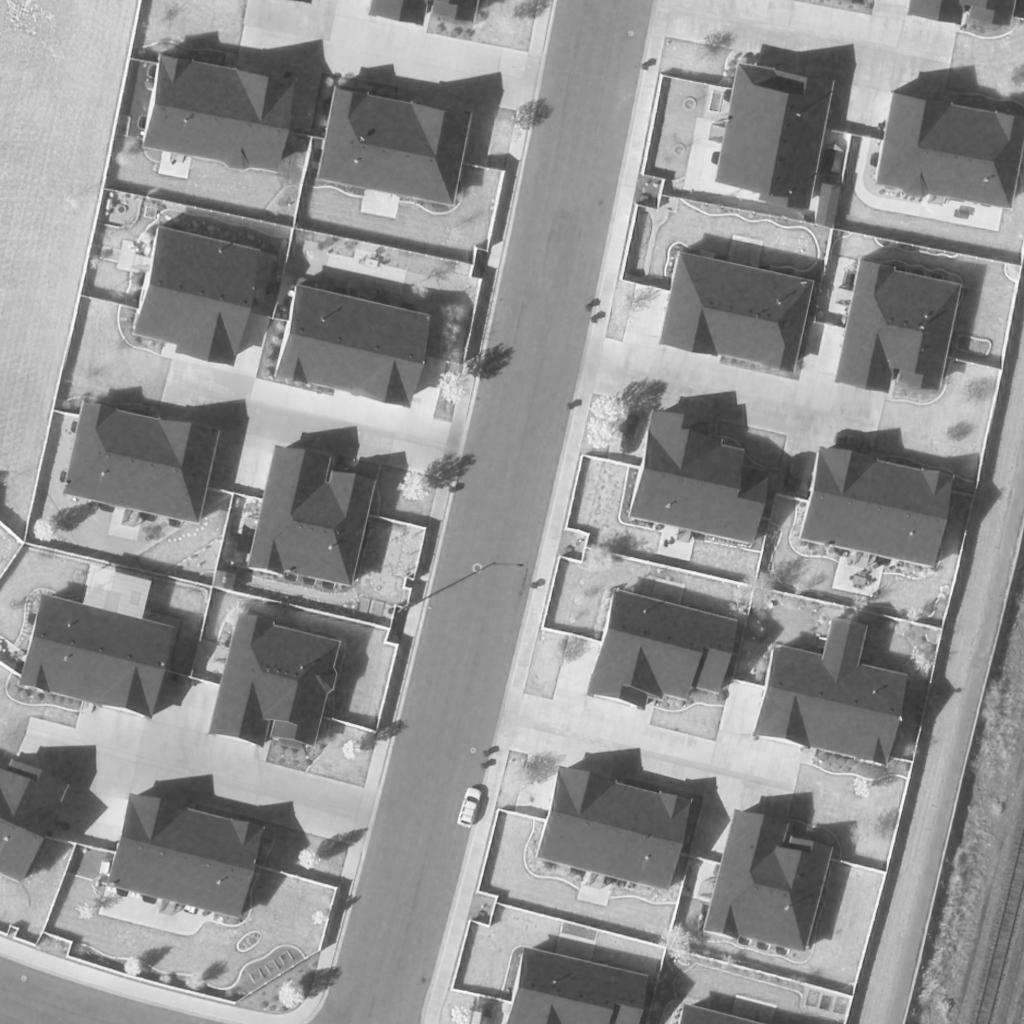vehicle: (456, 789, 486, 833)
